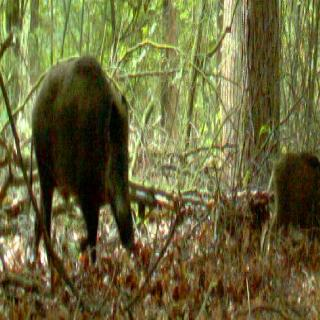Pig: (29, 27, 140, 285)
